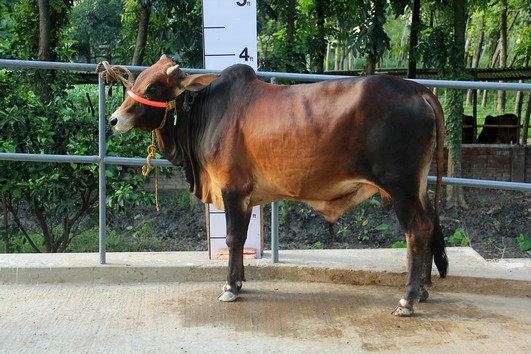cow: (101, 39, 462, 325)
